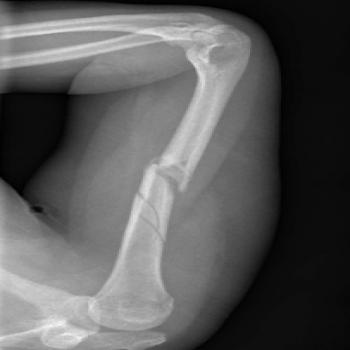Fracture: (120, 190, 178, 249), (145, 149, 214, 197)
